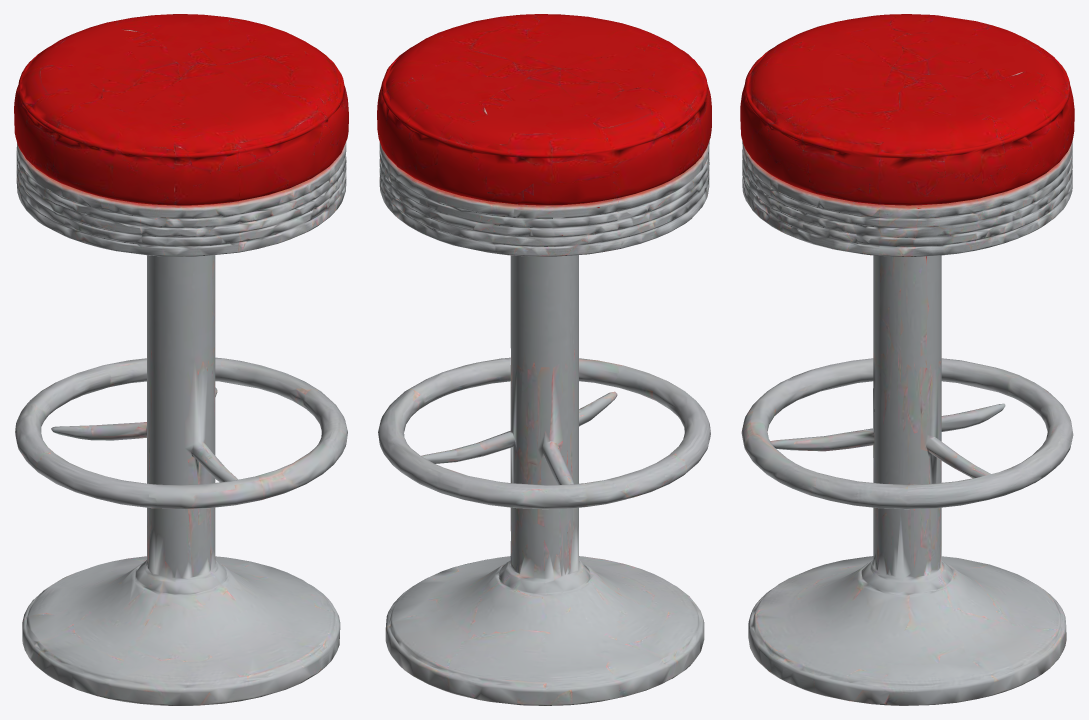
Rendered from stool.glb.
3 renders of one model, left to right at view 1: azimuth 30°, elevation 25°; view 2: azimuth 150°, elevation 25°; view 3: azimuth 270°, elevation 25°, orthographic.
Bounding box in the file's own units: 1.02 × 1.9 × 1.02.
Materials: 1 (1 with a texture image).
